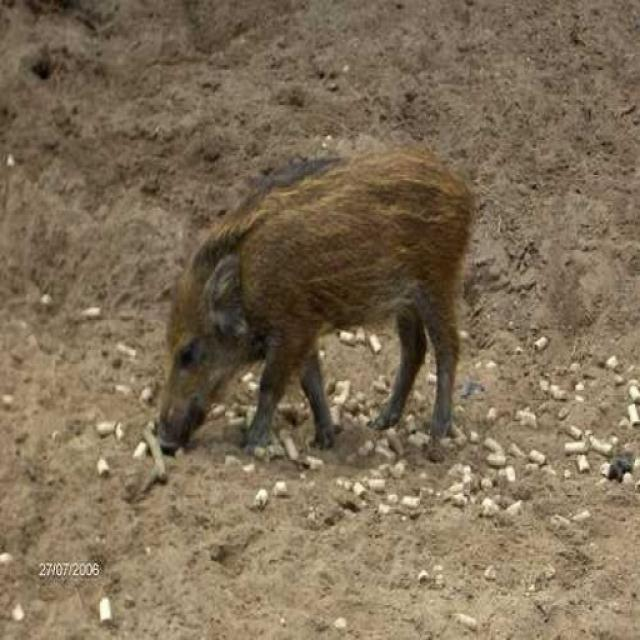pig: (147, 166, 504, 432)
